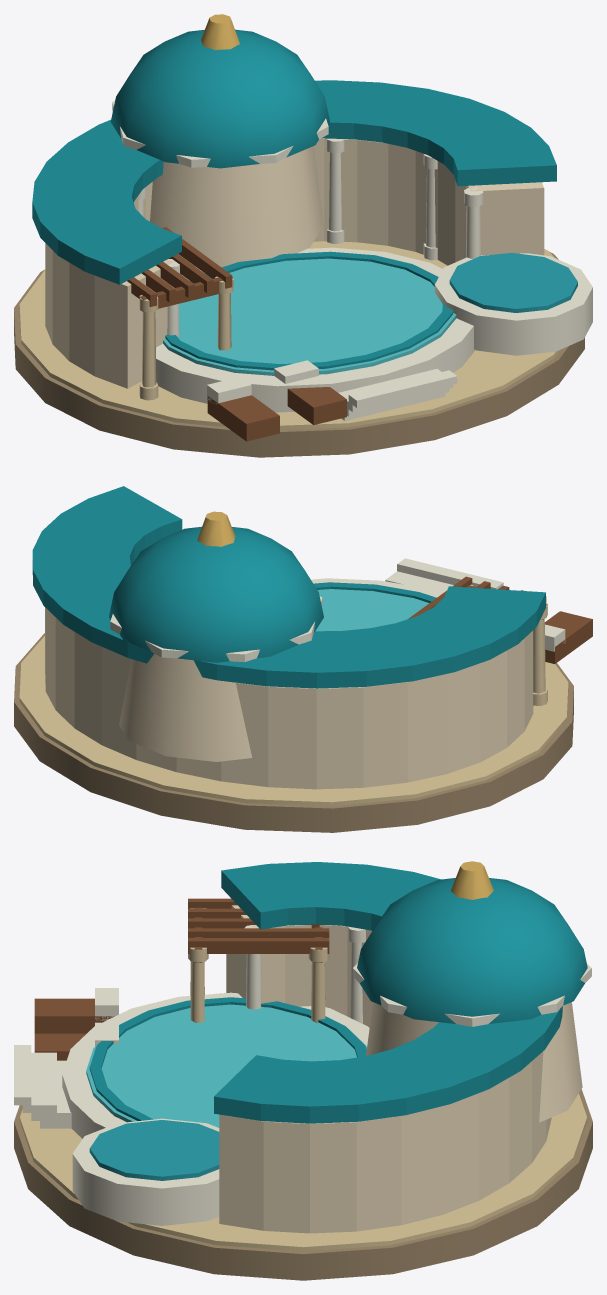
Rendered from recovery-center-lv3.glb.
The picture shows the model from 3 angles, top to bottom: view 1: azimuth 30°, elevation 25°; view 2: azimuth 150°, elevation 25°; view 3: azimuth 270°, elevation 25°; orthographic projection. The views are drawn at different scales.
Visible parts, largest first — view 1: crescent_roof_aqua, crescent_bathhouse_cream, water_pool, recovery_dome_aqua, foundation_stoneDark, recovery_pavilion_cream, foundation_sand, pool_terrace_white, raised_pool_white, side_water_water, body_white, sun_loungers_wood (+7 smaller); view 2: crescent_bathhouse_cream, crescent_roof_aqua, recovery_dome_aqua, foundation_stoneDark, foundation_sand, recovery_pavilion_cream, water_pool, pool_steps_white, sun_loungers_wood, body_stone, recovery_dome_white, dome_finial_gold (+3 smaller); view 3: crescent_bathhouse_cream, crescent_roof_aqua, recovery_dome_aqua, foundation_stoneDark, water_pool, foundation_sand, raised_pool_white, side_water_water, recovery_pavilion_cream, recovery_pergola_wood, pool_terrace_white, pool_steps_white (+7 smaller).
Boxes of the visible parts, x1,y1,x2,y2 form: crescent_roof_aqua: (32,80,556,284); crescent_bathhouse_cream: (45,138,544,388); water_pool: (163,258,456,375); recovery_dome_aqua: (110,29,329,168); foundation_stoneDark: (14,252,584,457); recovery_pavilion_cream: (150,146,323,267); foundation_sand: (19,241,559,429); pool_terrace_white: (156,247,475,412); raised_pool_white: (434,253,592,355); side_water_water: (449,252,577,312); body_white: (136,138,483,336); sun_loungers_wood: (207,387,346,441); crescent_bathhouse_cream: (45,607,533,789); crescent_roof_aqua: (32,486,545,688); recovery_dome_aqua: (109,526,323,662); foundation_stoneDark: (14,633,573,832); foundation_sand: (19,636,568,806); recovery_pavilion_cream: (119,654,252,761); water_pool: (315,589,429,631); pool_steps_white: (385,558,503,592); sun_loungers_wood: (544,611,592,663); body_stone: (470,584,547,705); recovery_dome_white: (110,596,322,661); dome_finial_gold: (197,511,235,546); crescent_bathhouse_cream: (219,905,551,1233); crescent_roof_aqua: (214,862,562,1123); recovery_dome_aqua: (357,878,587,1023); foundation_stoneDark: (14,1089,592,1280); water_pool: (86,1004,366,1127); foundation_sand: (19,993,587,1251); raised_pool_white: (72,1118,219,1225); side_water_water: (89,1120,219,1180); recovery_pavilion_cream: (366,1002,582,1122); recovery_pergola_wood: (188,898,329,962); pool_terrace_white: (62,992,369,1138); pool_steps_white: (14,1045,71,1128).
Size of the model in its own units: 1 by 0.4959 by 0.9231.
